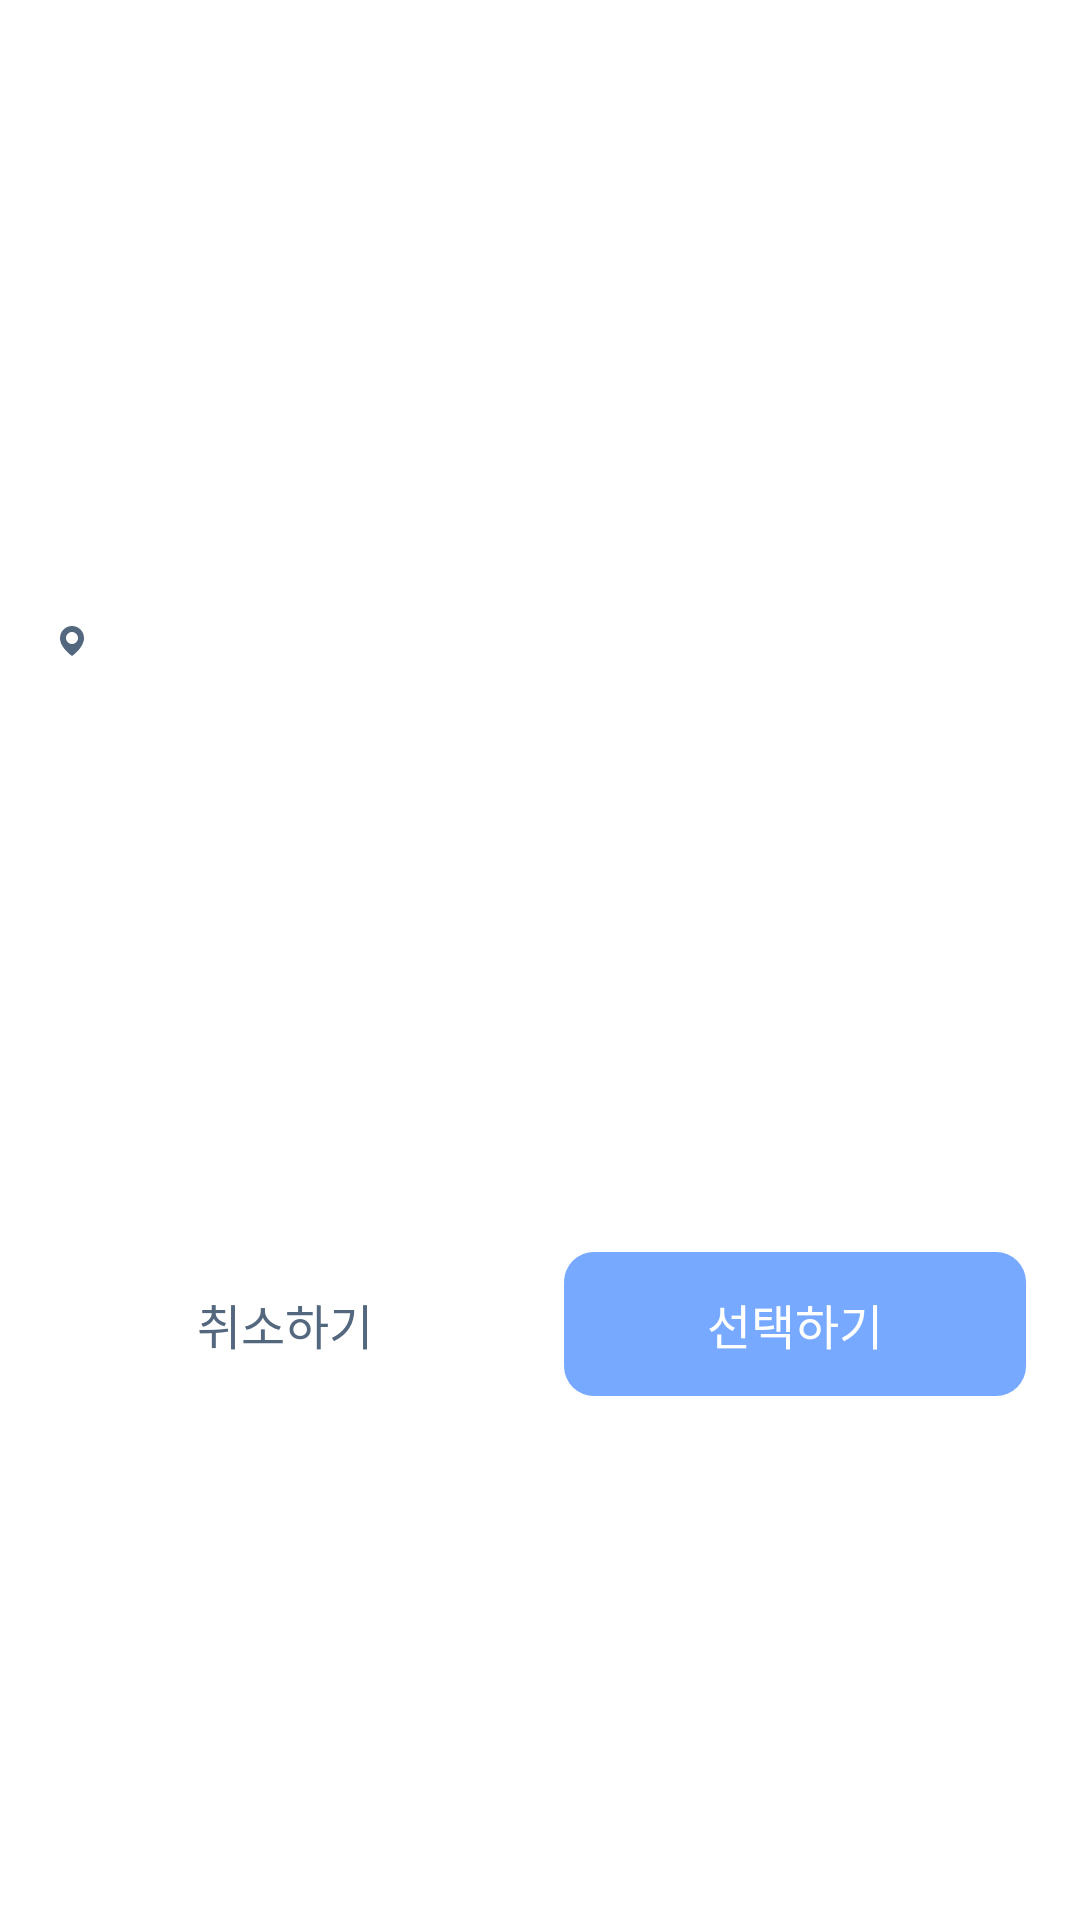

Named icons in this screenshot (1080*1920) and their centers, [x,y]:
Ping: [72,641]
